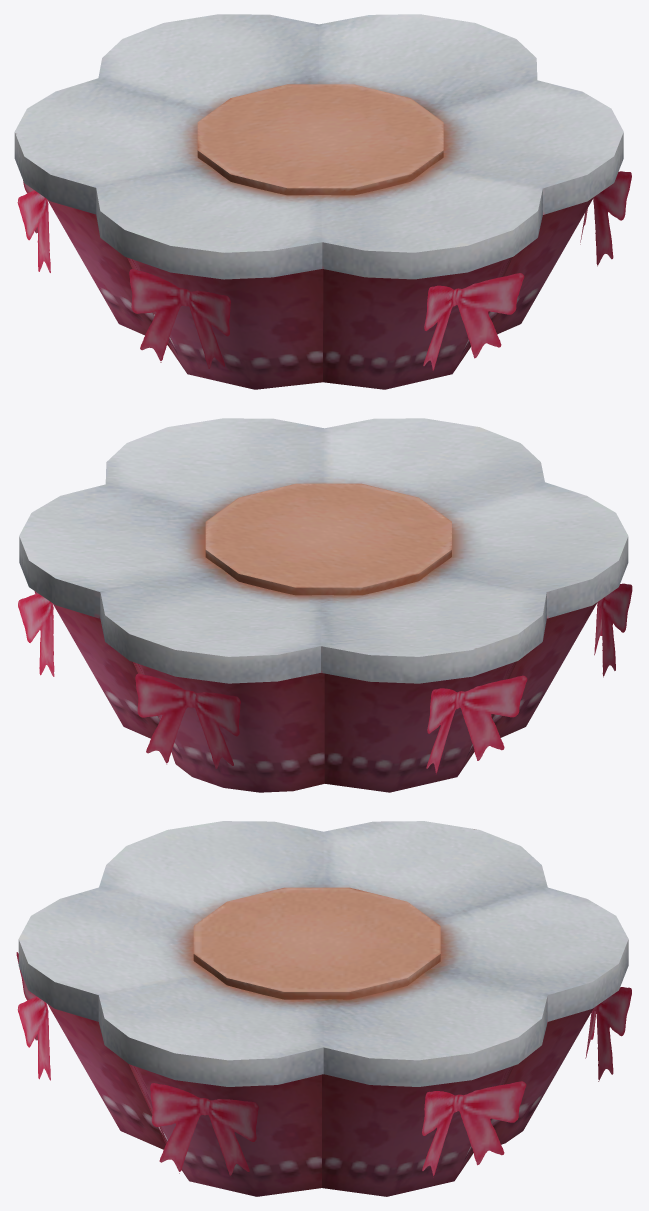
The model's file is furni_0200015.FBX.
3 views of the same model, one above another, from view 1: azimuth 30°, elevation 25°; view 2: azimuth 150°, elevation 25°; view 3: azimuth 270°, elevation 25° (orthographic).
Visible parts, largest first — view 1: furni_0200015; view 2: furni_0200015; view 3: furni_0200015.
Part boxes in pixels (x1,y1,x2,y2): furni_0200015: (14,14,631,389); furni_0200015: (18,418,632,792); furni_0200015: (16,821,631,1196).
Size of the model in its own units: 153 by 50.01 by 161.
